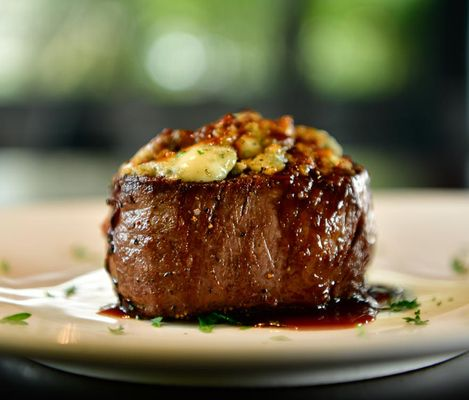sushi: (103, 110, 377, 321)
